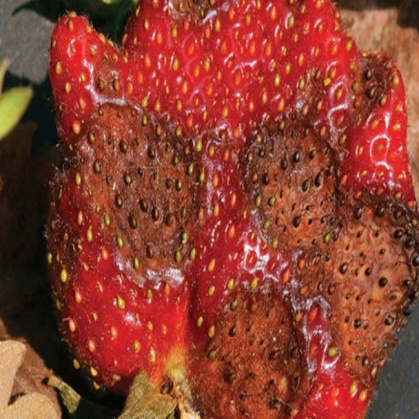Anthracnose_FR: (43, 0, 418, 418)
